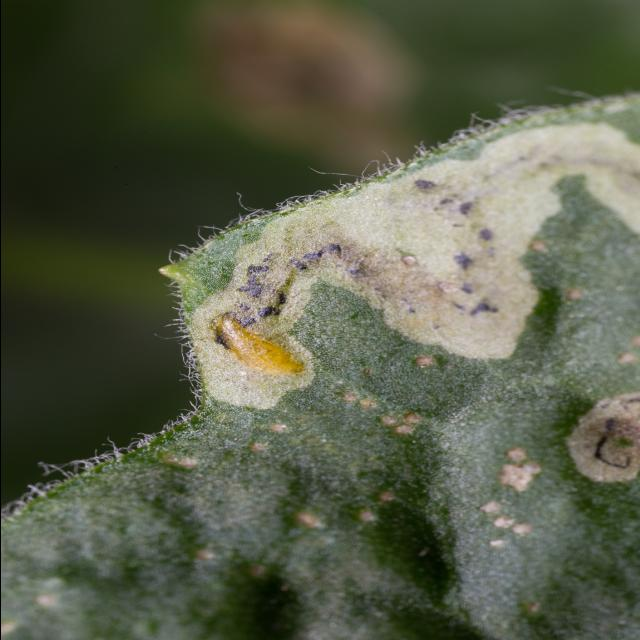Serpentine leafminer: (181, 122, 640, 411)
